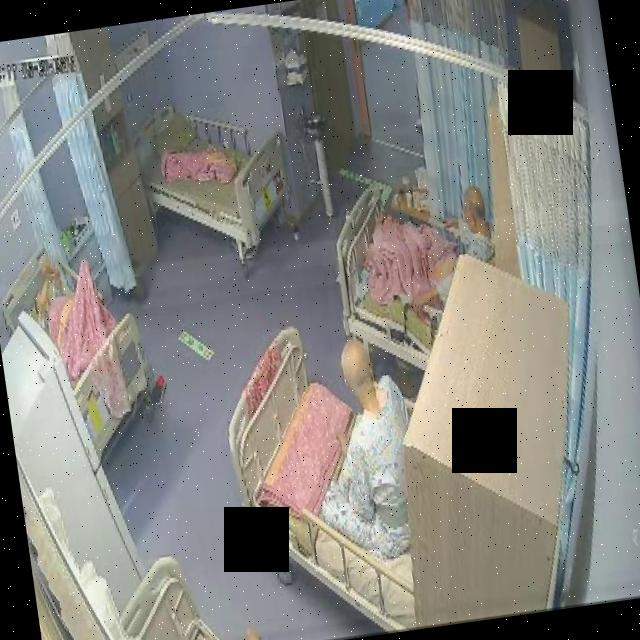bed: (214, 315, 451, 640), (0, 235, 163, 467), (330, 180, 486, 380), (131, 87, 294, 263)
lie: (26, 240, 109, 350)
patient: (310, 327, 433, 565), (407, 184, 506, 324), (27, 248, 68, 328)
sit: (310, 327, 432, 562), (368, 183, 506, 329)
